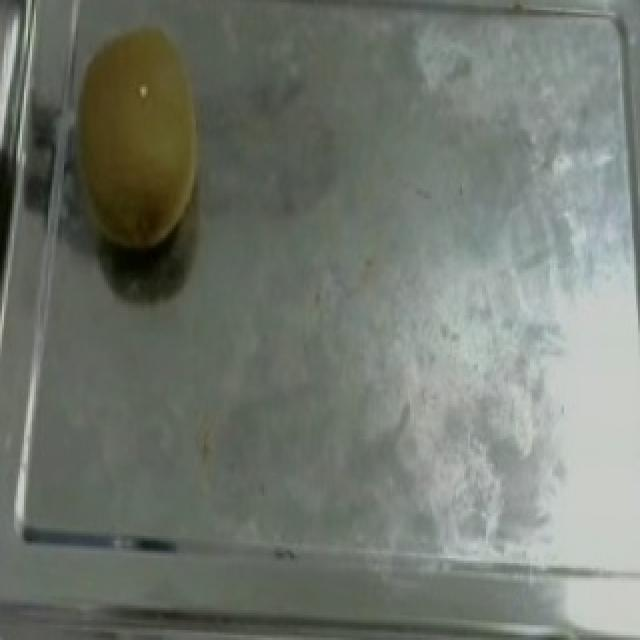Fruit: (36, 15, 220, 273)
